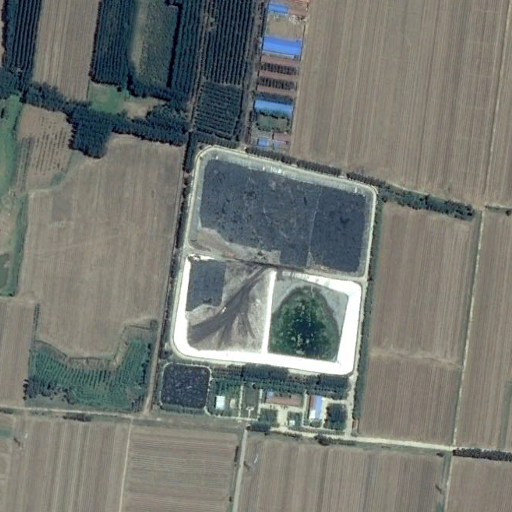lf: (173, 150, 375, 378)
